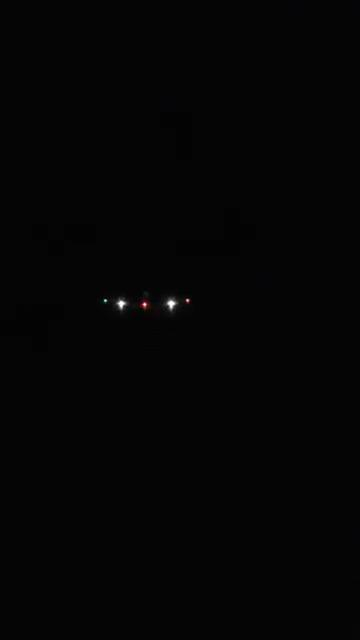Plane: (76, 260, 223, 341)
